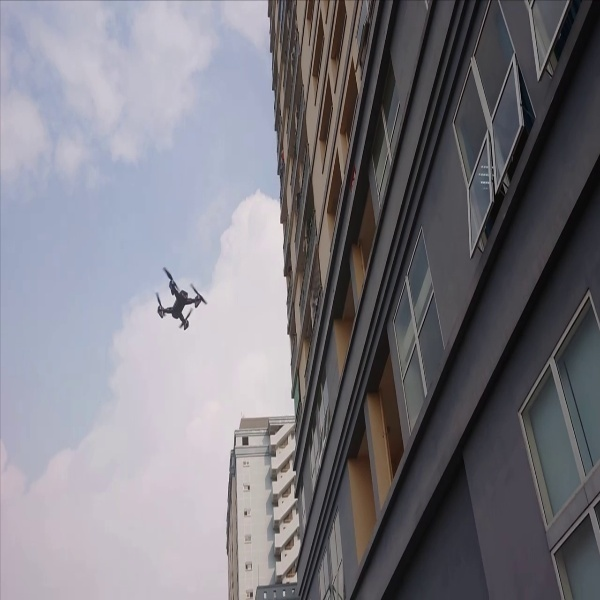drone: (139, 260, 214, 335)
